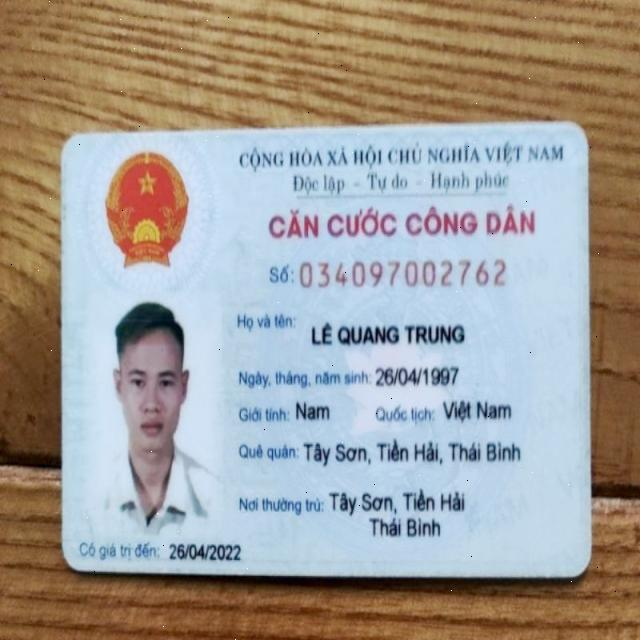current_place: (328, 489, 479, 514), (370, 515, 444, 538)
dob: (374, 362, 462, 391)
expire_date: (168, 538, 245, 566)
gender: (292, 393, 331, 425)
id: (296, 257, 513, 291)
name: (308, 319, 471, 348)
nationality: (442, 397, 515, 427)
origin_place: (301, 437, 526, 471)
